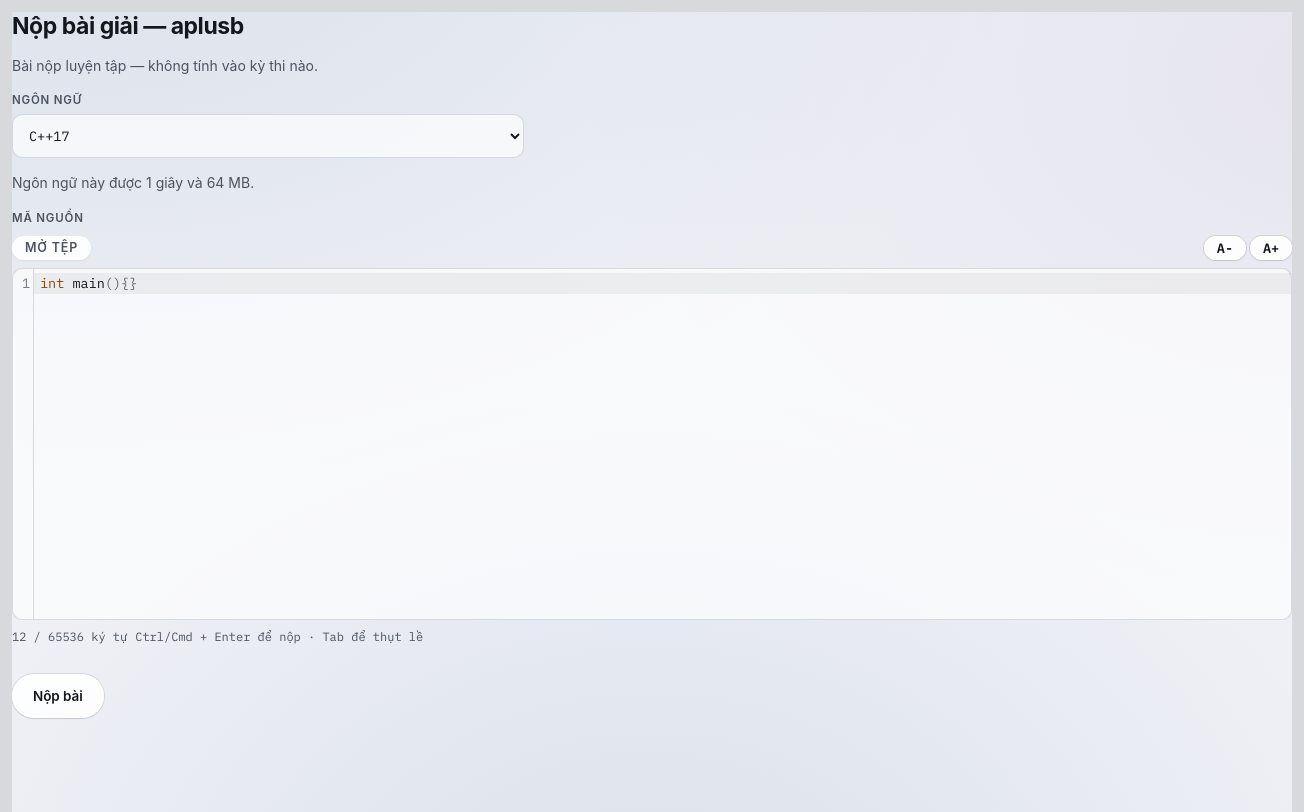
Test: SubmitPage on a 429 › leaves an ordinary refusal exactly as it was — the API detail, no cooldown
Click the button "Nộp bài" at (58, 696), box [12,674,104,718]
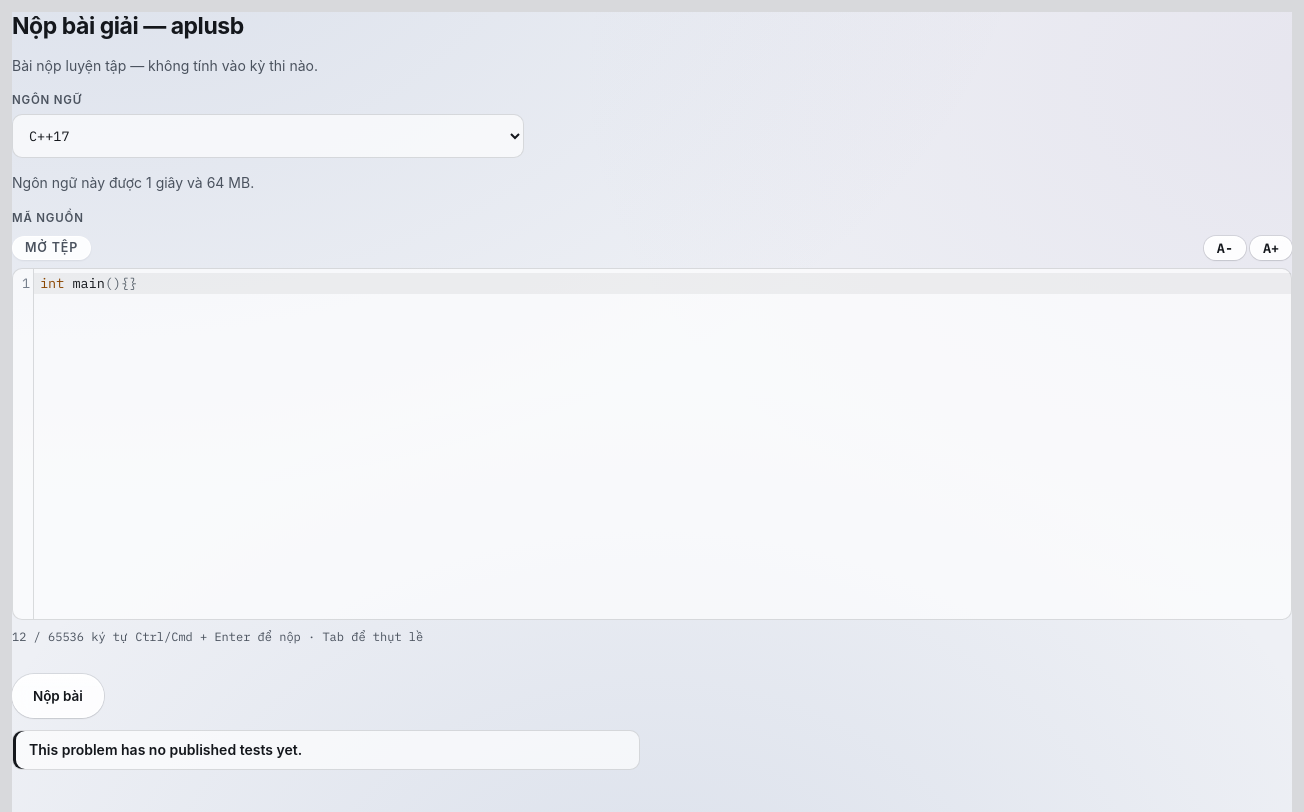
Check: the message shows "no published tests", box [29,741,302,758]
